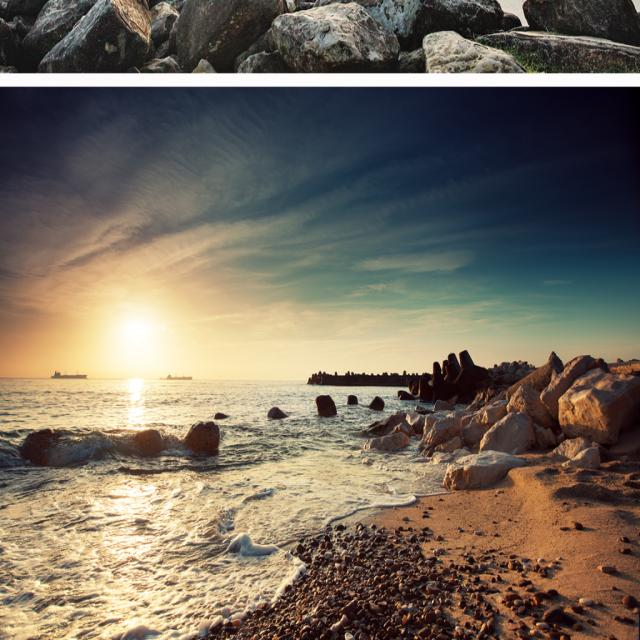reef: (35, 412, 242, 478)
